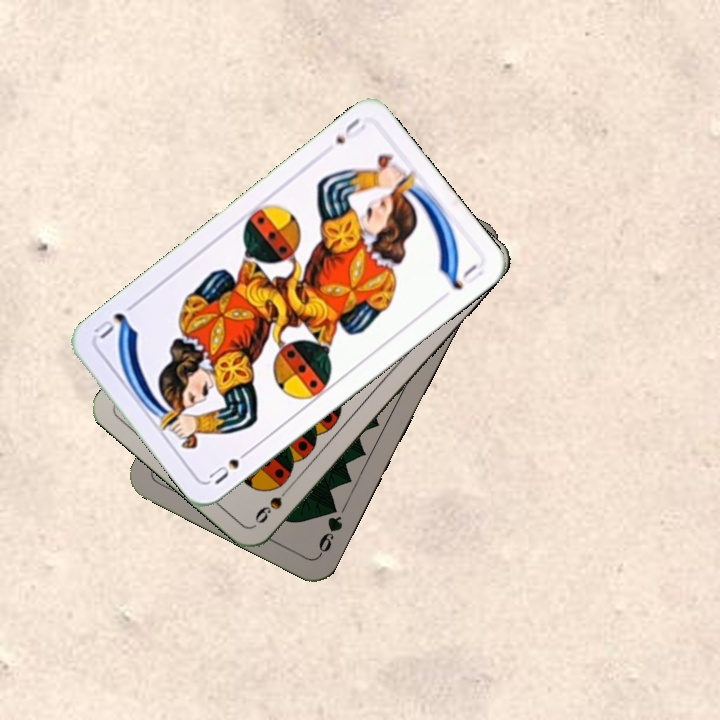G9: (314, 499, 345, 559)
S9: (250, 479, 296, 526)
SU: (204, 443, 255, 487), (331, 113, 369, 147)
